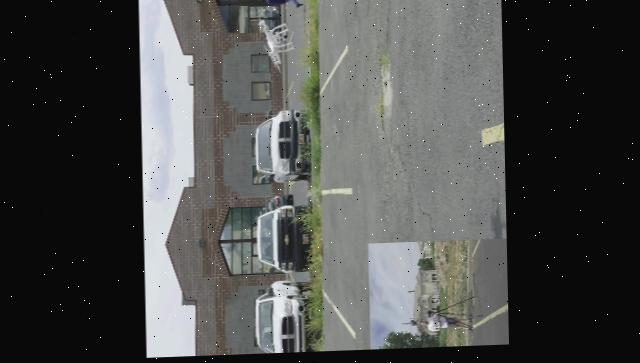drone: (256, 16, 293, 72)
